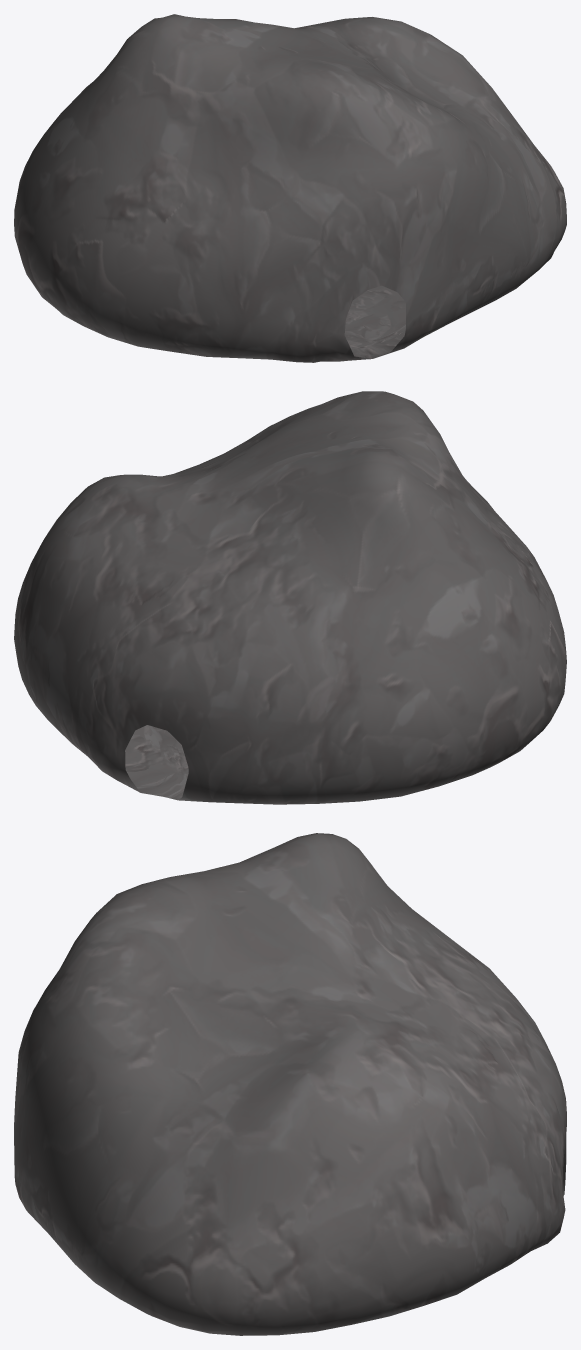
The model's file is CaveCenter.fbx.
3 renders of one model, top to bottom at view 1: azimuth 30°, elevation 25°; view 2: azimuth 150°, elevation 25°; view 3: azimuth 270°, elevation 25°, orthographic. The views are drawn at different scales.
Visible parts, largest first — view 1: polySurface15; view 2: polySurface15; view 3: polySurface15.
Boxes of the visible parts, left/top/right/bottom form: polySurface15: left=14, top=14, right=566, bottom=362; polySurface15: left=14, top=391, right=566, bottom=804; polySurface15: left=14, top=833, right=566, bottom=1335.
Bounding box in the file's own units: 30.17 × 16.29 × 25.21.
